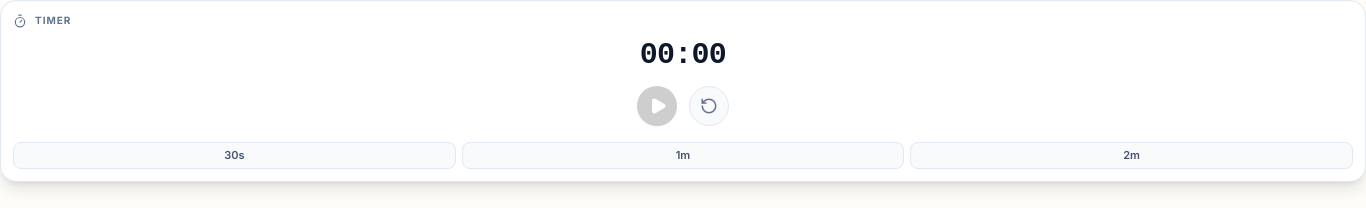
Test: TimerWidget › resets time to 00:00 when reset is clicked
Click the button named "1 minute". click: click(683, 155)
box: [462,142,904,168]
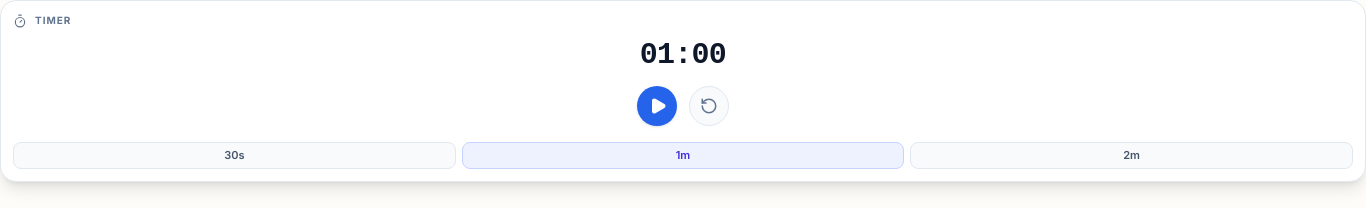
Expected: the text "01:00" is shown, [640,38,726,72]
Click the button named "reset timer". click: click(709, 106)
box: [689,86,729,126]
Wait 1000 ms
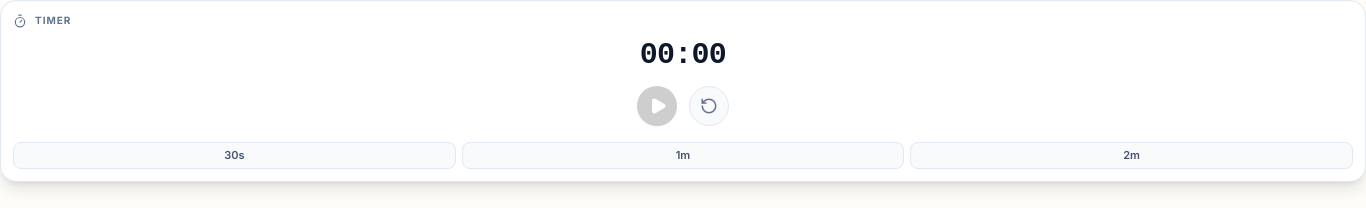
Expected: the text "00:00" is shown, [640,38,726,72]
